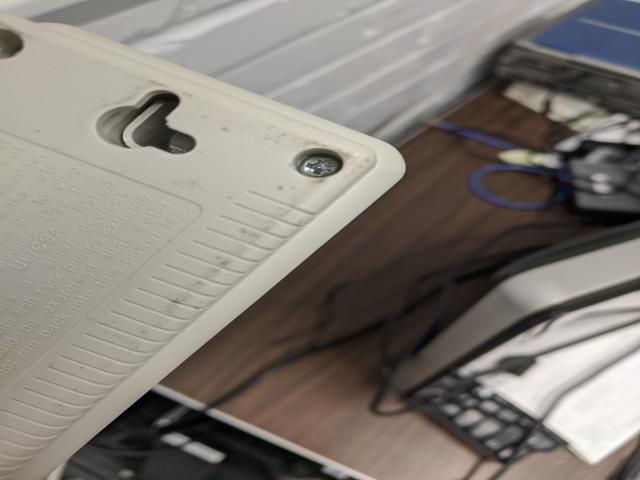CRS: (294, 153, 343, 181)
